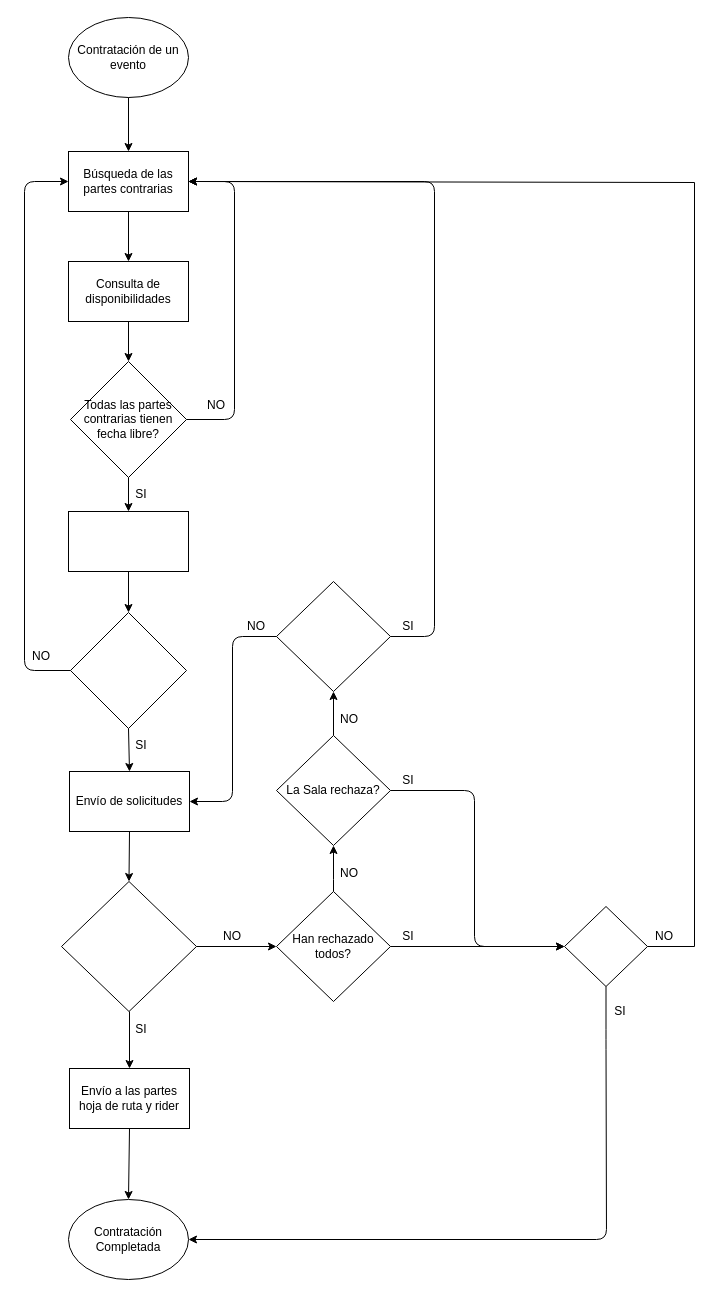
Image size: 720x1297. Some labels were removed from this diagram. Here are the shapes that lost their labels. From the top down, the centre of each, then its label:
At [128,541]: "Consulta de condiciones decontratación".
At [333,636]: "Buscamos otro Artista?".
At [128,670]: "ESTÁS DE ACUERDO".
At [128,946]: "Han aceptado todos?".
At [606,946]: "Cancelamos Contratación".
